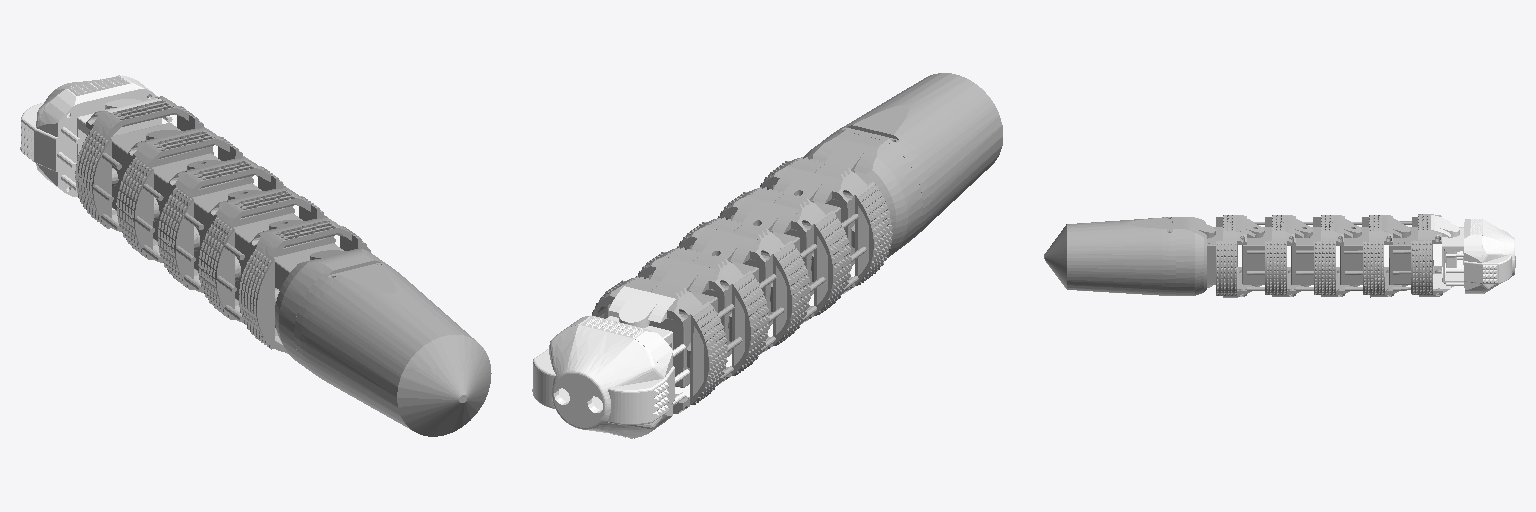
The robot description file, URDF, robot "snake":
<?xml version="1.0" encoding="utf-8"?>
<!-- This URDF was automatically created by SolidWorks to URDF Exporter! Originally created by [author] ([email redacted]) 
     Commit Version: 1.5.1-0-g916b5db  Build Version: 1.5.7152.31018
     For more information, please see http://wiki.ros.org/sw_urdf_exporter -->
<robot
  name="snake">
  <link
    name="head_link">
    <inertial>
      <origin
        xyz="-0.0210341207555037 0.00112565983272195 -0.014562552701889"
        rpy="0 0 0" />
      <mass
        value="0.113792447150302" />
      <inertia
        ixx="4.71195529325612E-05"
        ixy="4.89501723380327E-07"
        ixz="-5.83279523791956E-07"
        iyy="6.79376359219111E-05"
        iyz="-3.80325575740942E-07"
        izz="9.53902308389003E-05" />
    </inertial>
    <visual>
      <origin
        xyz="0 0 0"
        rpy="0 0 0" />
      <geometry>
        <mesh
          filename="package://vehicle_simulator/meshes/head_link.STL" />
      </geometry>
      <material
        name="">
        <color
          rgba="1 1 1 1" />
      </material>
    </visual>
    <collision>
      <origin
        xyz="0 0 0"
        rpy="0 0 0" />
      <geometry>
        <mesh
          filename="package://vehicle_simulator/meshes/head_link.STL" />
      </geometry>
    </collision>
  </link>
  <link
    name="one_Link">
    <inertial>
      <origin
        xyz="-0.0261374423990424 0.0181381995761569 0.0737634237352624"
        rpy="0 0 0" />
      <mass
        value="0.0898526627815787" />
      <inertia
        ixx="4.29139495303509E-05"
        ixy="2.12529456312919E-06"
        ixz="-1.36090013175355E-07"
        iyy="2.42273964797253E-05"
        iyz="2.43995206344107E-09"
        izz="4.59997117020137E-05" />
    </inertial>
    <visual>
      <origin
        xyz="0 0 0"
        rpy="0 0 0" />
      <geometry>
        <mesh
          filename="package://vehicle_simulator/meshes/one_Link.STL" />
      </geometry>
      <material
        name="">
        <color
          rgba="0.752941176470588 0.752941176470588 0.752941176470588 1" />
      </material>
    </visual>
    <collision>
      <origin
        xyz="0 0 0"
        rpy="0 0 0" />
      <geometry>
        <mesh
          filename="package://vehicle_simulator/meshes/one_Link.STL" />
      </geometry>
    </collision>
  </link>
  <joint
    name="one_Link_joint"
    type="fixed">
    <origin
      xyz="-0.046558 -0.13232 -0.019069"
      rpy="1.5598 0 3.1416" />
    <parent
      link="head_link" />
    <child
      link="one_Link" />
    <axis
      xyz="0 0 0" />
  </joint>
  <link
    name="two_Link">
    <inertial>
      <origin
        xyz="-0.0169742433347544 -0.00397881287180141 0.0575523514483724"
        rpy="0 0 0" />
      <mass
        value="0.0898527299044515" />
      <inertia
        ixx="4.29139660773669E-05"
        ixy="-2.12530442412568E-06"
        ixz="1.36033148205894E-07"
        iyy="2.42303486022908E-05"
        iyz="-2.41861425190835E-07"
        izz="4.59967882733245E-05" />
    </inertial>
    <visual>
      <origin
        xyz="0 0 0"
        rpy="0 0 0" />
      <geometry>
        <mesh
          filename="package://vehicle_simulator/meshes/two_Link.STL" />
      </geometry>
      <material
        name="">
        <color
          rgba="0.752941176470588 0.752941176470588 0.752941176470588 1" />
      </material>
    </visual>
    <collision>
      <origin
        xyz="0 0 0"
        rpy="0 0 0" />
      <geometry>
        <mesh
          filename="package://vehicle_simulator/meshes/two_Link.STL" />
      </geometry>
    </collision>
  </link>
  <joint
    name="two_Link_joint"
    type="fixed">
    <origin
      xyz="-0.0055339 -0.054364 0.0049055"
      rpy="1.5708 0 0" />
    <parent
      link="head_link" />
    <child
      link="two_Link" />
    <axis
      xyz="0 0 0" />
  </joint>
  <link
    name="three_Link">
    <inertial>
      <origin
        xyz="-0.0169742929136833 -0.00399018985467703 0.0575522707062329"
        rpy="0 0 0" />
      <mass
        value="0.0898526139497692" />
      <inertia
        ixx="4.29139389983036E-05"
        ixy="-2.12529503322531E-06"
        ixz="1.360897425615E-07"
        iyy="2.42273910493052E-05"
        iyz="2.44203743134146E-09"
        izz="4.59996968843322E-05" />
    </inertial>
    <visual>
      <origin
        xyz="0 0 0"
        rpy="0 0 0" />
      <geometry>
        <mesh
          filename="package://vehicle_simulator/meshes/three_Link.STL" />
      </geometry>
      <material
        name="">
        <color
          rgba="0.752941176470588 0.752941176470588 0.752941176470588 1" />
      </material>
    </visual>
    <collision>
      <origin
        xyz="0 0 0"
        rpy="0 0 0" />
      <geometry>
        <mesh
          filename="package://vehicle_simulator/meshes/three_Link.STL" />
      </geometry>
    </collision>
  </link>
  <joint
    name="three_Link_joint"
    type="fixed">
    <origin
      xyz="-0.0055339 -0.10751 0.0049228"
      rpy="1.5708 0 0" />
    <parent
      link="head_link" />
    <child
      link="three_Link" />
    <axis
      xyz="0 0 0" />
  </joint>
  <link
    name="four_Link">
    <inertial>
      <origin
        xyz="-0.016974286940595 -0.00399017844009911 0.0575522684829635"
        rpy="0 0 0" />
      <mass
        value="0.0898526297665168" />
      <inertia
        ixx="4.29139466847454E-05"
        ixy="-2.1252996959293E-06"
        ixz="1.36090067592017E-07"
        iyy="2.42273918932014E-05"
        iyz="2.44245630288262E-09"
        izz="4.59997051482014E-05" />
    </inertial>
    <visual>
      <origin
        xyz="0 0 0"
        rpy="0 0 0" />
      <geometry>
        <mesh
          filename="package://vehicle_simulator/meshes/four_Link.STL" />
      </geometry>
      <material
        name="">
        <color
          rgba="0.752941176470588 0.752941176470588 0.752941176470588 1" />
      </material>
    </visual>
    <collision>
      <origin
        xyz="0 0 0"
        rpy="0 0 0" />
      <geometry>
        <mesh
          filename="package://vehicle_simulator/mesh/four_Link.STL" />
      </geometry>
    </collision>
  </link>
  <joint
    name="four_Link_joint"
    type="fixed">
    <origin
      xyz="-0.0055339 -0.16066 0.0049228"
      rpy="1.5708 0 0" />
    <parent
      link="head_link" />
    <child
      link="four_Link" />
    <axis
      xyz="0 0 0" />
  </joint>
  <link
    name="five_Link">
    <inertial>
      <origin
        xyz="-0.0551386603514624 -0.00086331145722667 0.0697589725928851"
        rpy="0 0 0" />
      <mass
        value="0.0762631923383392" />
      <inertia
        ixx="4.07500907978163E-05"
        ixy="2.1255216968566E-06"
        ixz="-1.48681250389852E-07"
        iyy="2.12535914296474E-05"
        iyz="-2.68421922260312E-08"
        izz="4.39975050456855E-05" />
    </inertial>
    <visual>
      <origin
        xyz="0 0 0"
        rpy="0 0 0" />
      <geometry>
        <mesh
          filename="package://vehicle_simulator/meshes/five_Link.STL" />
      </geometry>
      <material
        name="">
        <color
          rgba="0.752941176470588 0.752941176470588 0.752941176470588 1" />
      </material>
    </visual>
    <collision>
      <origin
        xyz="0 0 0"
        rpy="0 0 0" />
      <geometry>
        <mesh
          filename="package://vehicle_simulator/meshes/five_Link.STL" />
      </geometry>
    </collision>
  </link>
  <joint
    name="five_Link_joint"
    type="fixed">
    <origin
      xyz="-0.075359 -0.3374 -7.193E-05"
      rpy="1.5708 0 3.1416" />
    <parent
      link="head_link" />
    <child
      link="five_Link" />
    <axis
      xyz="0 0 0" />
  </joint>
  <link
    name="tail_Link">
    <inertial>
      <origin
        xyz="-5.35184154646373E-05 -0.000699830656384923 -0.0699097150965293"
        rpy="0 0 0" />
      <mass
        value="0.198681031696659" />
      <inertia
        ixx="0.000225574858006223"
        ixy="4.66948976020826E-09"
        ixz="-8.99109237469229E-08"
        iyy="0.000301334948641655"
        iyz="1.18771992702212E-05"
        izz="0.000148859101209976" />
    </inertial>
    <visual>
      <origin
        xyz="0 0 0"
        rpy="0 0 0" />
      <geometry>
        <mesh
          filename="package://vehicle_simulator/meshes/tail_Link.STL" />
      </geometry>
      <material
        name="">
        <color
          rgba="0.752941176470588 0.752941176470588 0.752941176470588 1" />
      </material>
    </visual>
    <collision>
      <origin
        xyz="0 0 0"
        rpy="0 0 0" />
      <geometry>
        <mesh
          filename="package://vehicle_simulator/meshes/tail_Link.STL" />
      </geometry>
    </collision>
  </link>
  <joint
    name="tail_Link_joint"
    type="continuous">
    <origin
      xyz="-0.021455 -0.28348 0"
      rpy="1.5708 0 -3.1298" />
    <parent
      link="head_link" />
    <child
      link="tail_Link" />
    <axis
      xyz="0 1 0" />
  </joint>
</robot>

--- Facts derived from the render (not from the file) ---
The picture shows the robot from 3 angles, left to right: view 1: azimuth 30°, elevation 25°; view 2: azimuth 150°, elevation 25°; view 3: azimuth 270°, elevation 25°; orthographic projection.
Robot: snake — 7 links, 6 joints (1 continuous, 5 fixed); root link head_link; default pose: every joint at zero.
Visible links, largest first — view 1: tail_Link, head_link, one_Link, two_Link, three_Link, four_Link, five_Link; view 2: tail_Link, head_link, one_Link, four_Link, two_Link, three_Link, five_Link; view 3: tail_Link, head_link, one_Link, four_Link, three_Link, two_Link, five_Link.
Link boxes in pixels (x1,y1,x2,y2): tail_Link: (275, 248, 491, 436); head_link: (20, 75, 172, 209); one_Link: (75, 96, 216, 240); two_Link: (117, 127, 257, 270); three_Link: (158, 157, 298, 300); four_Link: (198, 187, 338, 330); five_Link: (239, 217, 370, 353); tail_Link: (803, 73, 1002, 257); head_link: (532, 286, 689, 438); one_Link: (592, 257, 742, 413); four_Link: (718, 167, 866, 324); two_Link: (636, 227, 783, 383); three_Link: (677, 197, 825, 354); five_Link: (760, 157, 892, 294); tail_Link: (1044, 217, 1215, 295); head_link: (1431, 215, 1515, 293); one_Link: (1382, 214, 1442, 296); four_Link: (1236, 215, 1295, 296); three_Link: (1285, 215, 1344, 296); two_Link: (1334, 215, 1393, 297); five_Link: (1207, 215, 1246, 297).
Bounding box of the posed robot: 0.0941 × 0.5122 × 0.0847 m (x, y, z).
7 mesh visuals loaded from 7 distinct referenced files (7 binary STL).